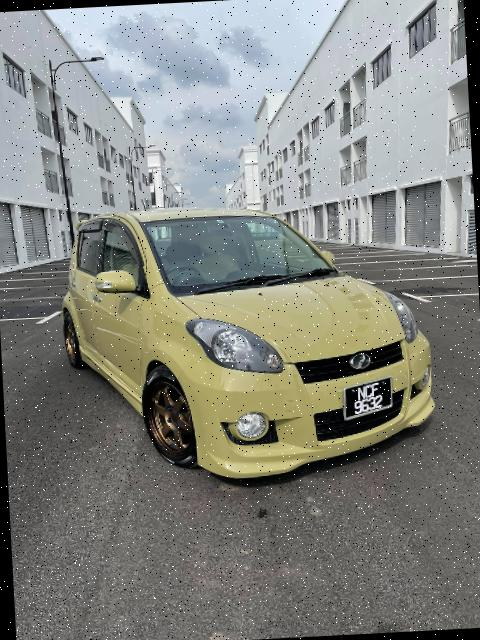License_Plate: (344, 376, 391, 428)
car: (60, 196, 449, 497)
